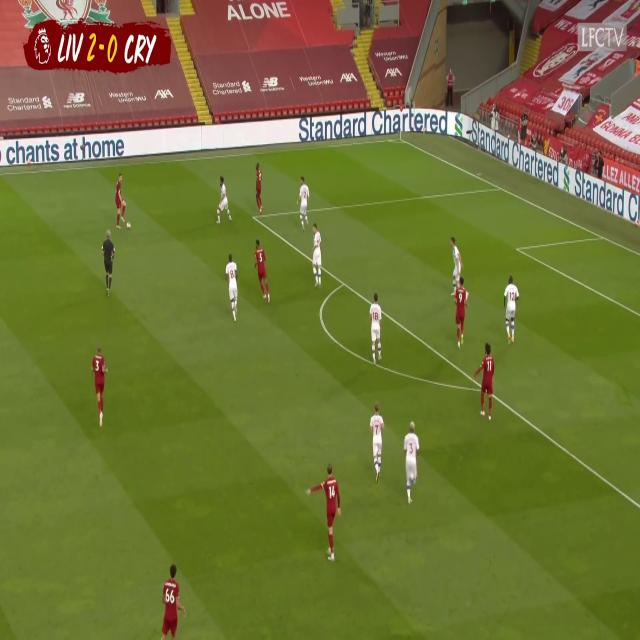Ball: (124, 220, 132, 232)
TEAM 1: (401, 422, 420, 506), (368, 402, 385, 482), (502, 274, 518, 346), (370, 293, 385, 365), (224, 254, 239, 322), (310, 223, 324, 290), (215, 174, 233, 224), (297, 176, 310, 229), (452, 234, 462, 298)
TEAM 2: (308, 468, 341, 564), (160, 565, 186, 639), (475, 343, 497, 422), (91, 346, 108, 429), (454, 277, 471, 351), (253, 238, 270, 303), (252, 156, 268, 219), (116, 173, 131, 229)
